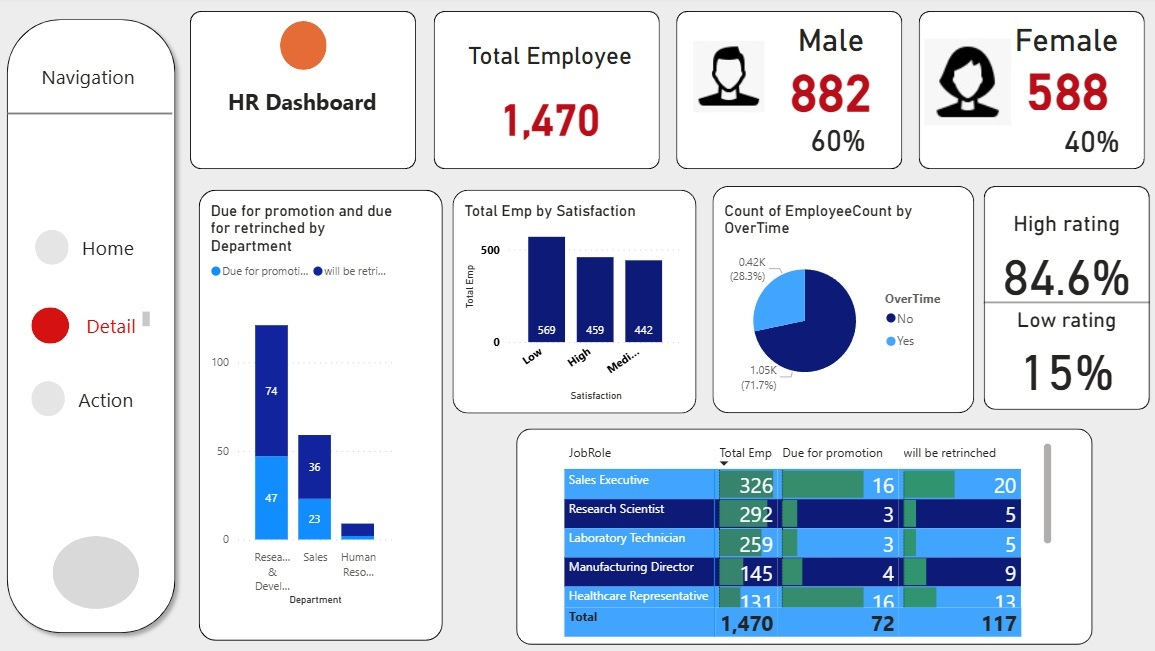

Layout of this report page (visuals, bound fields, positions):
{"tool":"powerbi","page":{"name":"Details","canvas":[1280,720],"ordinal":2},"visuals":[{"type":"shape","box":[220,15.9,248.1,173.6],"z":0},{"type":"shape","box":[9.8,15.9,202.9,691.9],"z":1000},{"type":"shape","box":[228.6,212.7,267.7,495.1],"z":2000},{"type":"shape","box":[487.7,17.1,248.1,173.6],"z":3000},{"type":"shape","box":[753,17.1,248.1,173.6],"z":4000},{"type":"shape","box":[1019.5,17.1,248.1,173.6],"z":5000},{"type":"shape","box":[507.3,212.7,267.7,245.7],"z":6000},{"type":"shape","box":[793.3,209,287.3,249.4],"z":7000},{"type":"shape","box":[577.7,474.8,632.6,237.4],"z":8000},{"type":"shape","box":[1090.4,209,182.1,245.7],"z":9000},{"type":"columnChart","title":"Due for promotion and due for retrinched by Department","fields":{"Y":["All Measure.Due for promotion","All Measure.will be retrinched"],"Category":["in.Department"]},"box":[237.1,224.9,210.3,448.6],"z":10000},{"type":"pieChart","fields":{"Category":["in.OverTime"],"Y":["CountNonNull(in.EmployeeCount)"]},"box":[801.9,224.9,265.3,224.9],"z":11000},{"type":"card","title":"Total Employee","fields":{"Values":["All Measure.Total Emp"]},"box":[507.3,48.9,213.9,133.2],"z":12000},{"type":"card","title":"Male","fields":{"Values":["All Measure.Male"]},"box":[854.5,26.9,136.9,105.1],"z":13000},{"type":"card","title":"Male","fields":{"Values":["All Measure.%Male"]},"box":[891.1,128.4,80.7,53.8],"z":14000},{"type":"card","title":"Female","fields":{"Values":["All Measure.Female"]},"box":[1113.6,26.9,135.7,101.5],"z":15000},{"type":"image","box":[1020.7,26.9,105.1,133.2],"z":16000},{"type":"image","box":[766.5,35.4,88,106.3],"z":17000},{"type":"shape","box":[317.8,26.9,51.3,53.8],"z":18000},{"type":"textbox","box":[240.8,94.1,205.4,44],"z":19000},{"type":"card","fields":{"Values":["All Measure.%Female"]},"box":[1171.1,132,78.2,51.3],"z":20000},{"type":"columnChart","fields":{"Y":["All Measure.Total Emp"],"Category":["in.Satisfaction"]},"box":[515.9,224.9,250.6,224.9],"z":21000},{"type":"pivotTable","fields":{"Rows":["in.JobRole"],"Values":["All Measure.Total Emp","All Measure.Due for promotion","All Measure.will be retrinched"]},"box":[625.7,485.8,544.8,222.3],"z":22000},{"type":"card","title":"Low rating","fields":{"Values":["All Measure.%Highest"]},"box":[1106.3,342.3,151.6,102.7],"z":23000},{"type":"card","title":"High rating","fields":{"Values":["All Measure.%lowest"]},"box":[1096.5,235.9,171.1,106.3],"z":24000},{"type":"shape","box":[1090.4,187,182.1,299.5],"z":25000},{"type":"actionButton","box":[49.1,257.3,37.2,38.7],"z":26000},{"type":"actionButton","box":[44.6,342,41.6,40.1],"z":27000},{"type":"actionButton","box":[44.6,422.3,37.2,38.7],"z":28000},{"type":"textbox","box":[96.7,257.3,95.2,53.5],"z":29000},{"type":"textbox","box":[99.6,342,80.3,40.1],"z":30000},{"type":"textbox","box":[92.2,422.3,95.2,43.1],"z":31000},{"type":"actionButton","box":[68.4,593.3,95.2,80.3],"z":32000},{"type":"textbox","box":[28.8,68.6,157.8,48],"z":33000},{"type":"shape","box":[19.2,31.6,181.1,194.9],"z":34000}]}

Visuals, with their boxes on the page's 1280x720 design canvas (x1, y1, x2, y2). These are canvas units, not pixel positions in the 1155x651 screenshot, which may show the page scaled, cropped or inside an application window:
shape: <region>220, 16, 468, 190</region>
shape: <region>10, 16, 213, 708</region>
shape: <region>229, 213, 496, 708</region>
shape: <region>488, 17, 736, 191</region>
shape: <region>753, 17, 1001, 191</region>
shape: <region>1020, 17, 1268, 191</region>
shape: <region>507, 213, 775, 458</region>
shape: <region>793, 209, 1081, 458</region>
shape: <region>578, 475, 1210, 712</region>
shape: <region>1090, 209, 1272, 455</region>
"Due for promotion and due for retrinched by Department" columnChart: <region>237, 225, 447, 674</region>
pieChart - in.OverTime x CountNonNull(in.EmployeeCount): <region>802, 225, 1067, 450</region>
"Total Employee" card: <region>507, 49, 721, 182</region>
"Male" card: <region>854, 27, 991, 132</region>
"Male" card: <region>891, 128, 972, 182</region>
"Female" card: <region>1114, 27, 1249, 128</region>
image: <region>1021, 27, 1126, 160</region>
image: <region>766, 35, 854, 142</region>
shape: <region>318, 27, 369, 81</region>
textbox: <region>241, 94, 446, 138</region>
card - All Measure.%Female: <region>1171, 132, 1249, 183</region>
columnChart - All Measure.Total Emp x in.Satisfaction: <region>516, 225, 766, 450</region>
pivotTable - in.JobRole x All Measure.Total Emp: <region>626, 486, 1170, 708</region>
"Low rating" card: <region>1106, 342, 1258, 445</region>
"High rating" card: <region>1096, 236, 1268, 342</region>
shape: <region>1090, 187, 1272, 486</region>
actionButton: <region>49, 257, 86, 296</region>
actionButton: <region>45, 342, 86, 382</region>
actionButton: <region>45, 422, 82, 461</region>
textbox: <region>97, 257, 192, 311</region>
textbox: <region>100, 342, 180, 382</region>
textbox: <region>92, 422, 187, 465</region>
actionButton: <region>68, 593, 164, 674</region>
textbox: <region>29, 69, 187, 117</region>
shape: <region>19, 32, 200, 226</region>
